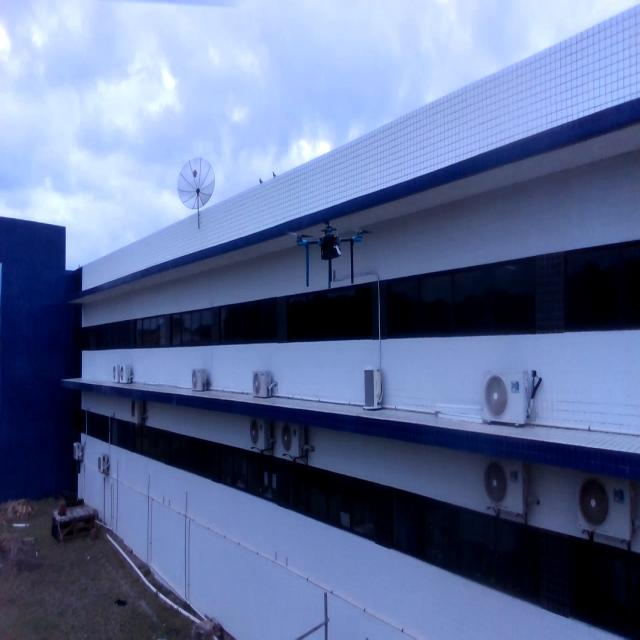-uav-: (278, 190, 379, 318)
